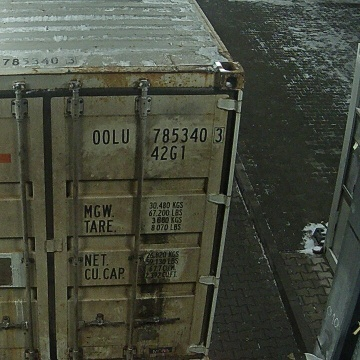serial_id: (92, 128, 223, 144)
